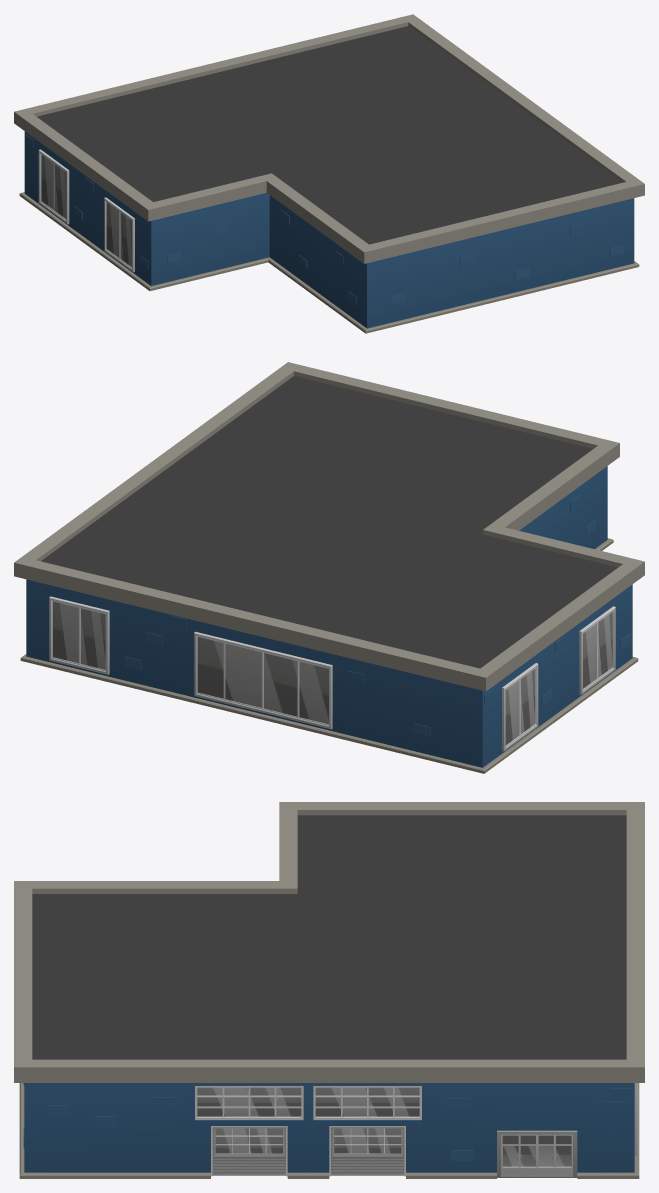
The model's file is Building_22_2_H.glb.
3 views of the same model, one above another, from view 1: azimuth 30°, elevation 25°; view 2: azimuth 150°, elevation 25°; view 3: azimuth 270°, elevation 25° (orthographic). The views are drawn at different scales.
Visible parts, largest first — view 1: Building_22_2_H; view 2: Building_22_2_H; view 3: Building_22_2_H.
Part boxes in pixels (<box>): Building_22_2_H: <box>14,14,644,333</box>; Building_22_2_H: <box>14,362,644,773</box>; Building_22_2_H: <box>14,802,644,1178</box>.
Size of the model in its own units: 31.08 by 6.22 by 31.25.
3 materials, 3 textured.
